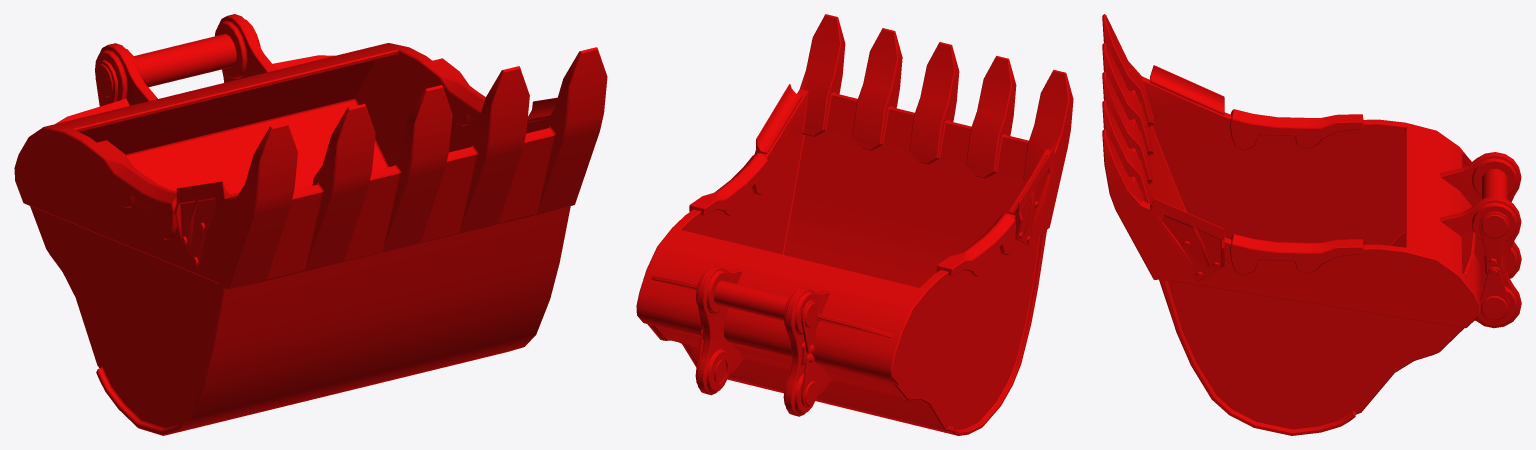
The model's file is ExcavatorMachine_Bucket_01a_snaps005.fbx.
3 views of the same model, side by side, from view 1: azimuth 30°, elevation 25°; view 2: azimuth 150°, elevation 25°; view 3: azimuth 270°, elevation 25° (orthographic). The views are drawn at different scales.
Visible parts, largest first — view 1: ExcavatorMachine_Bucket_01a_snaps005_LOD0; view 2: ExcavatorMachine_Bucket_01a_snaps005_LOD0; view 3: ExcavatorMachine_Bucket_01a_snaps005_LOD0.
Boxes of the visible parts, x1,y1,x2,y2 form: ExcavatorMachine_Bucket_01a_snaps005_LOD0: (14,14,607,435); ExcavatorMachine_Bucket_01a_snaps005_LOD0: (636,14,1073,435); ExcavatorMachine_Bucket_01a_snaps005_LOD0: (1102,14,1521,435).
Size of what is drawn, in the model's own units: 151 by 155 by 198.
